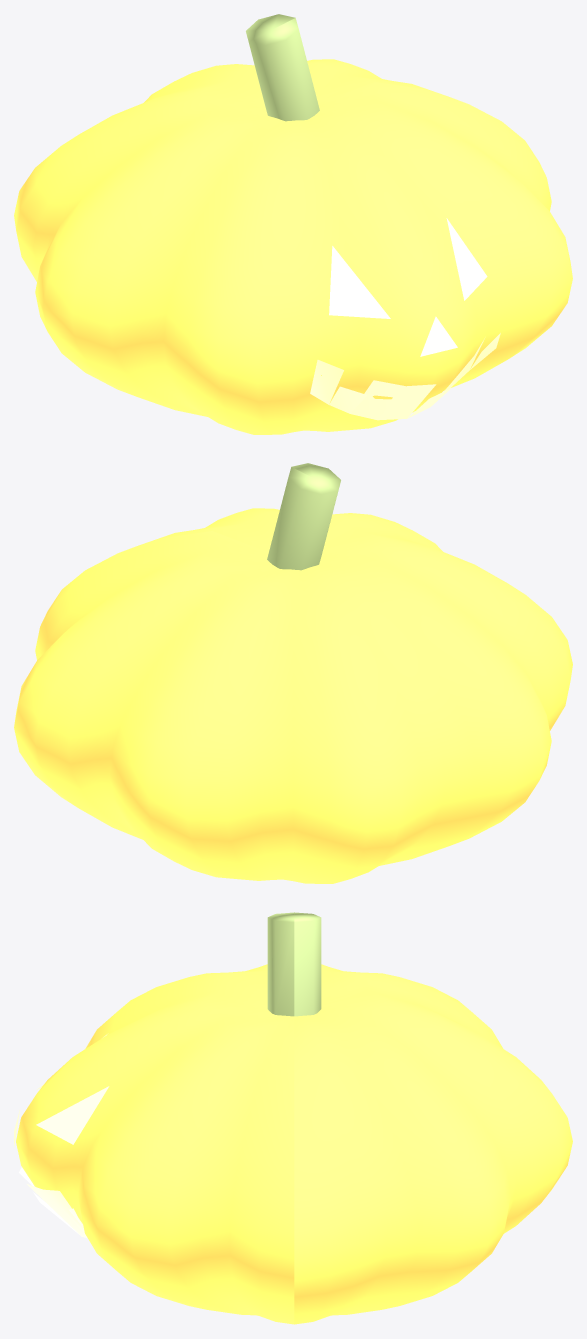
File: pumpkin.glb
3 renders of one model, top to bottom at view 1: azimuth 30°, elevation 25°; view 2: azimuth 150°, elevation 25°; view 3: azimuth 270°, elevation 25°, orthographic. The views are drawn at different scales.
Bounding box in the file's own units: 0.9315 × 0.7162 × 0.9346.
